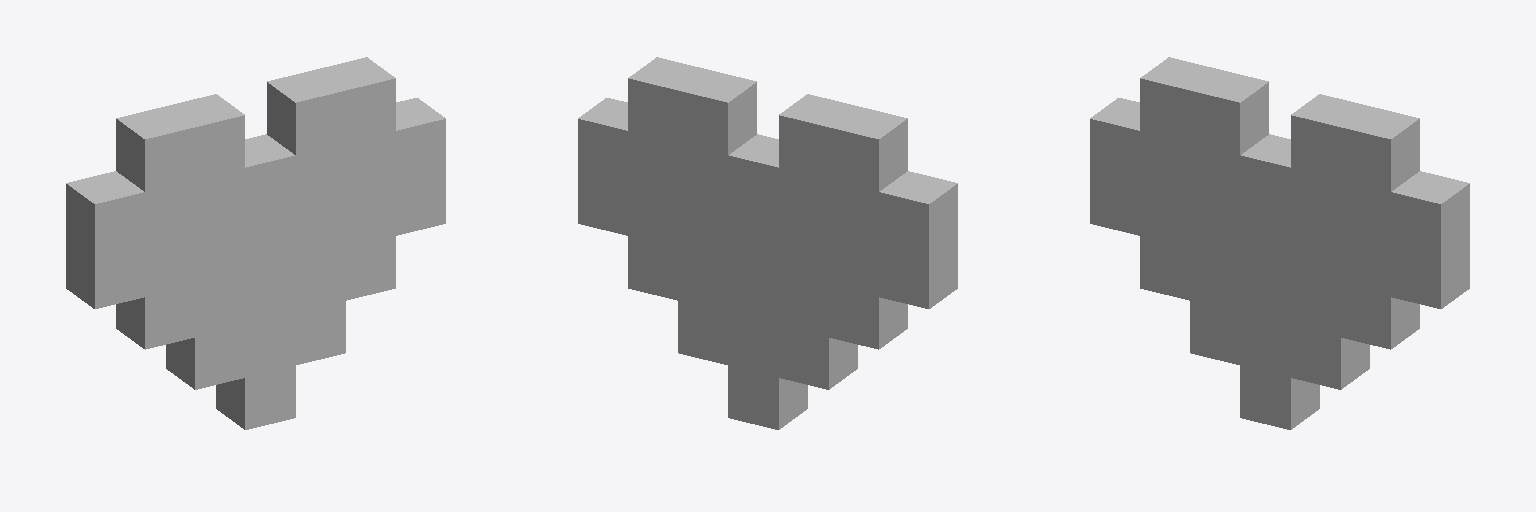
File: playerHp.obj
3 views of the same model, side by side, from view 1: azimuth 30°, elevation 25°; view 2: azimuth 150°, elevation 25°; view 3: azimuth 330°, elevation 25° (orthographic).
Parts seen in each view (by area): view 1: Untitled; view 2: Untitled; view 3: Untitled.
Part boxes in pixels (x1,y1,x2,y2): Untitled: (66, 57, 445, 429); Untitled: (578, 57, 957, 429); Untitled: (1090, 57, 1469, 429).
Bounding box in the file's own units: 0.7 × 0.6 × 0.1.